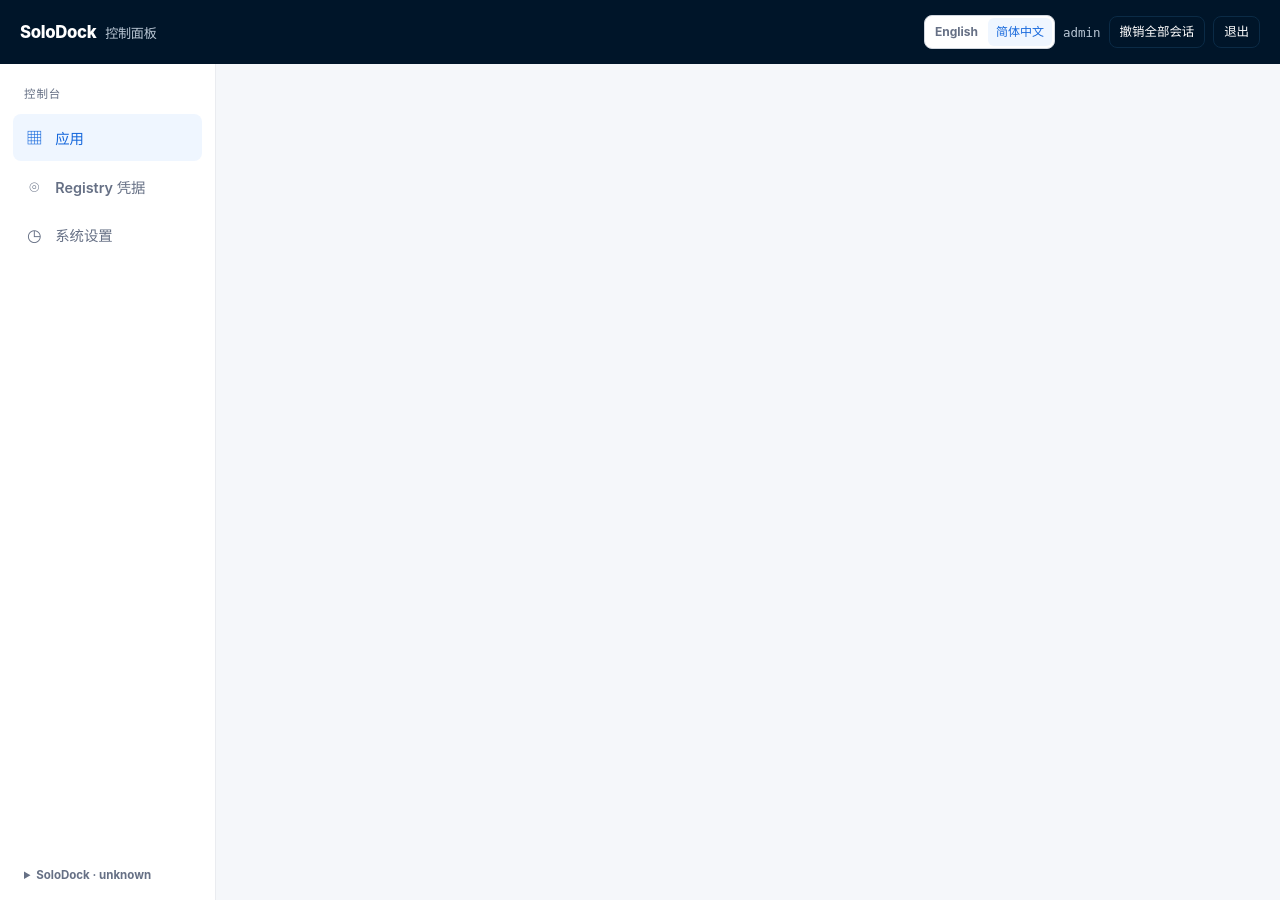
Test: AppShell › shows a sanitized retryable API error with its safe request ID
Click the button "撤销全部会话".
click(1157, 32)  # box top-left (1109, 16), bottom-right (1205, 48)
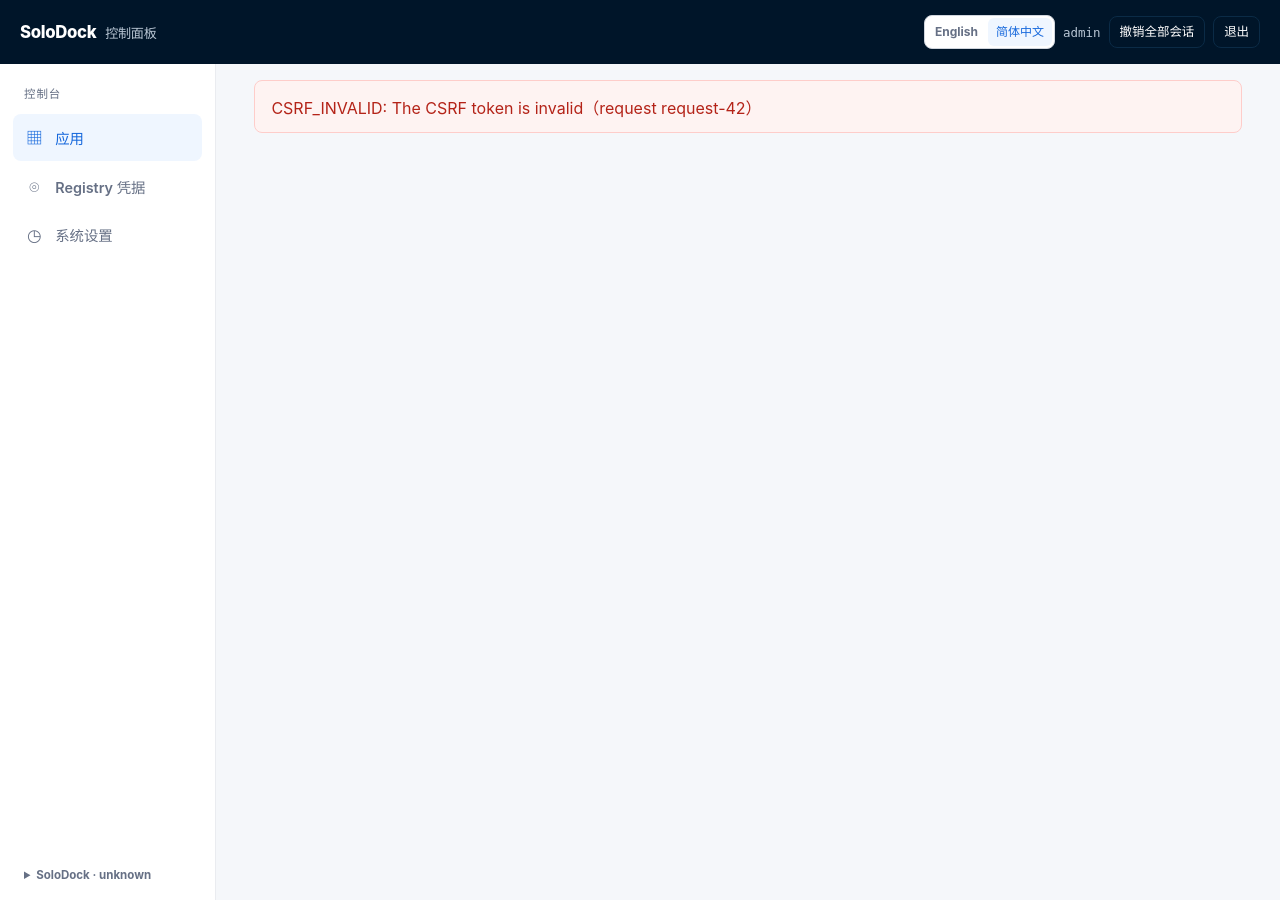
Expected: the message shows "CSRF_INVALID: The CSRF token is invalid", top-left (271, 98), bottom-right (762, 118)
Expected: the message shows "request-42", top-left (271, 98), bottom-right (762, 118)
